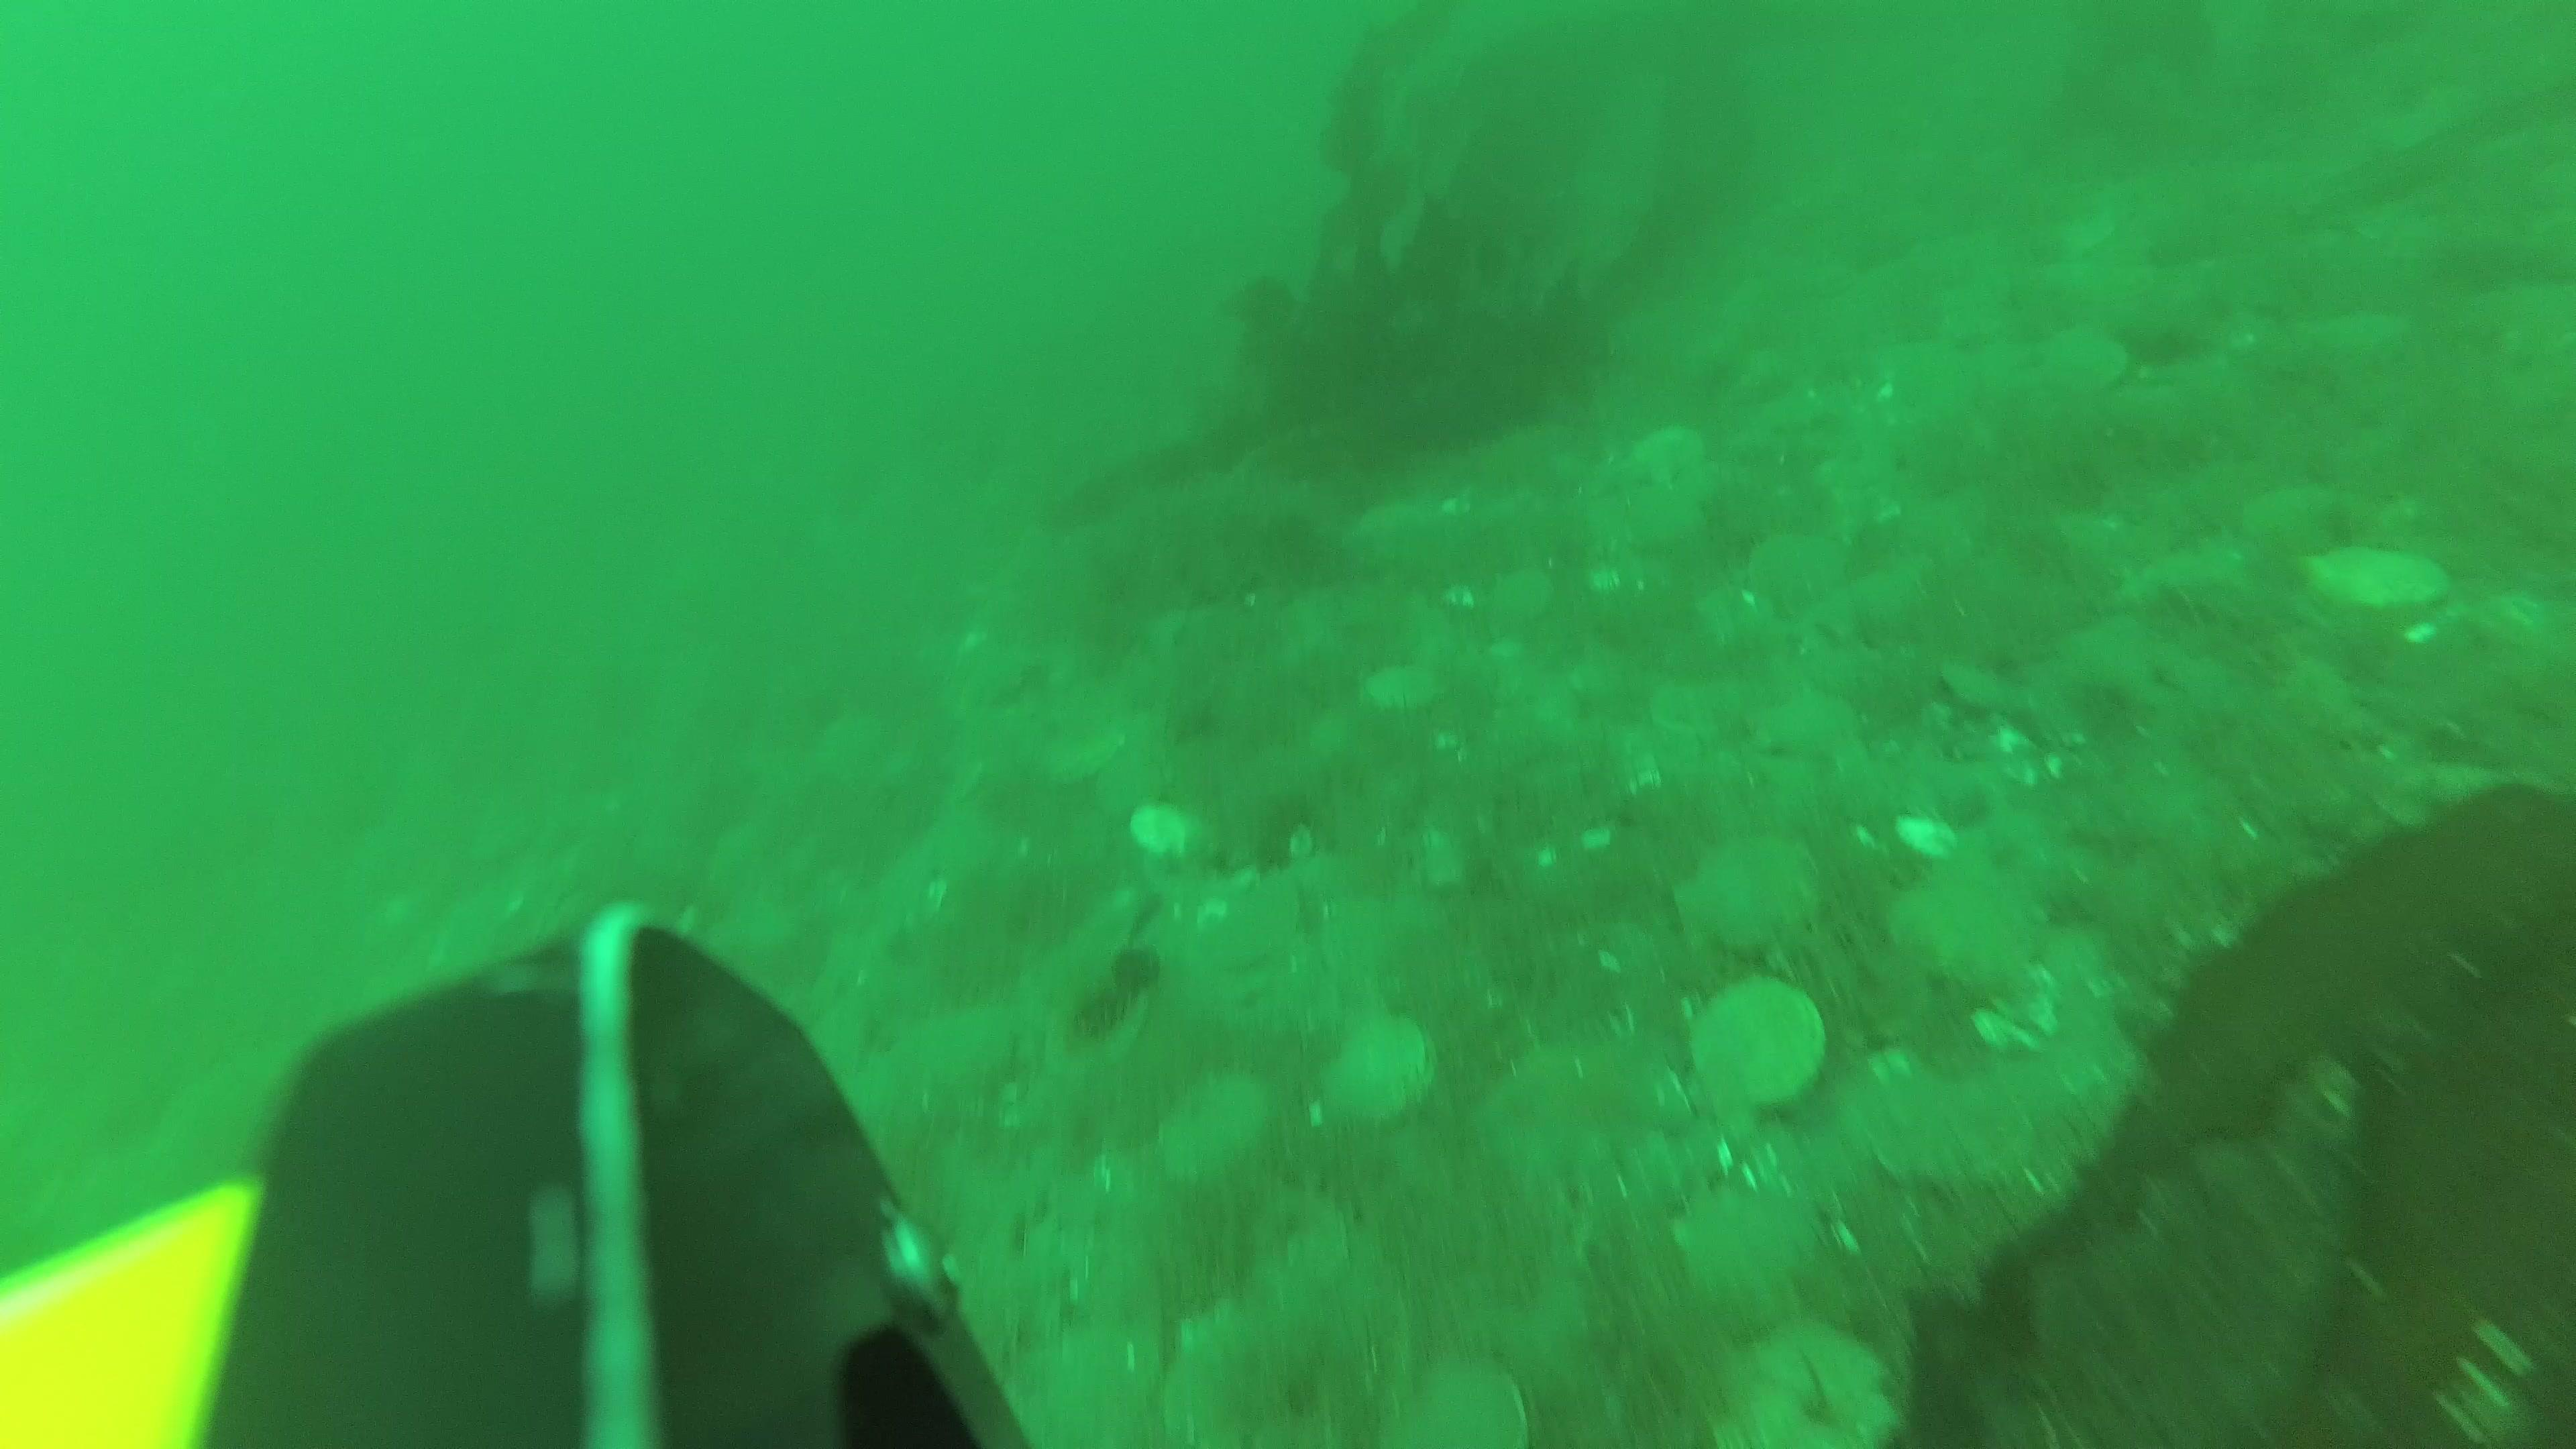scallop: (1720, 1334, 1893, 1449), (1688, 975, 1826, 1108), (1679, 835, 1813, 952), (1898, 860, 2020, 980), (1684, 1184, 1803, 1292), (1376, 1359, 1518, 1449), (1881, 1081, 1994, 1191), (1157, 1077, 1272, 1185), (1323, 1017, 1438, 1125), (2312, 534, 2456, 616), (1594, 479, 1693, 559), (2036, 333, 2132, 402), (1355, 658, 1444, 720)
